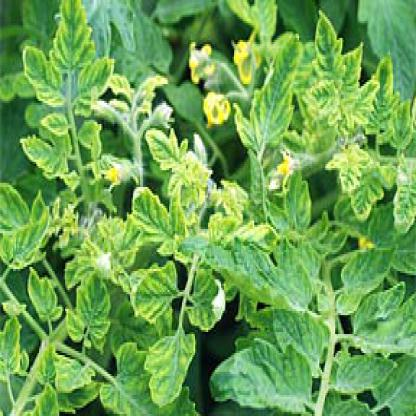tomato leaf yellow virus: (235, 36, 305, 166), (140, 315, 202, 410), (126, 172, 178, 256), (126, 256, 182, 330), (65, 271, 116, 351), (53, 4, 95, 82), (6, 210, 59, 271), (19, 48, 68, 109), (23, 132, 78, 183), (26, 265, 62, 340), (350, 149, 386, 223), (140, 122, 192, 172), (364, 57, 397, 132), (309, 15, 345, 74), (295, 84, 351, 118), (81, 55, 121, 101)
